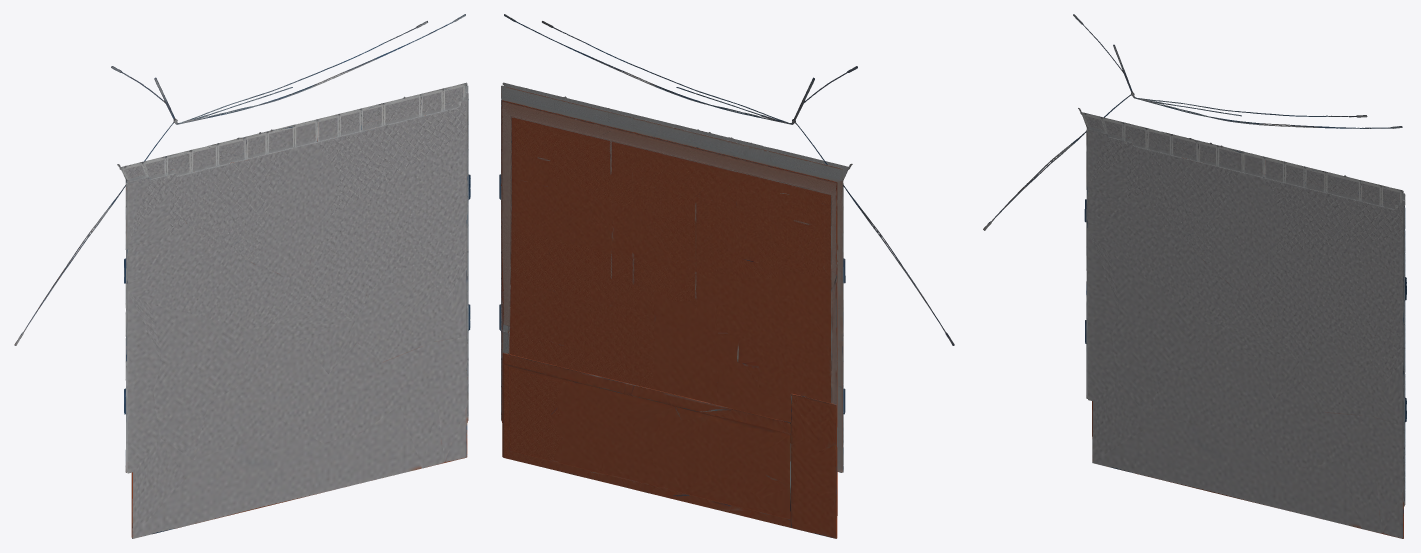
The model's file is GLS-GUA-CLIMAGUARD-BLUE5.glb.
3 views of the same model, side by side, from view 1: azimuth 30°, elevation 25°; view 2: azimuth 150°, elevation 25°; view 3: azimuth 330°, elevation 25° (orthographic). The views are drawn at different scales.
Visible parts, largest first — view 1: mesh_node; view 2: mesh_node; view 3: mesh_node.
Part boxes in pixels (box(x1,y1,x2,y2)): mesh_node: box(14, 14, 470, 538); mesh_node: box(499, 14, 954, 538); mesh_node: box(983, 14, 1406, 538).
Size of the model in its own units: 1.8 by 1.8 by 0.005.
1 material, 1 textured.
